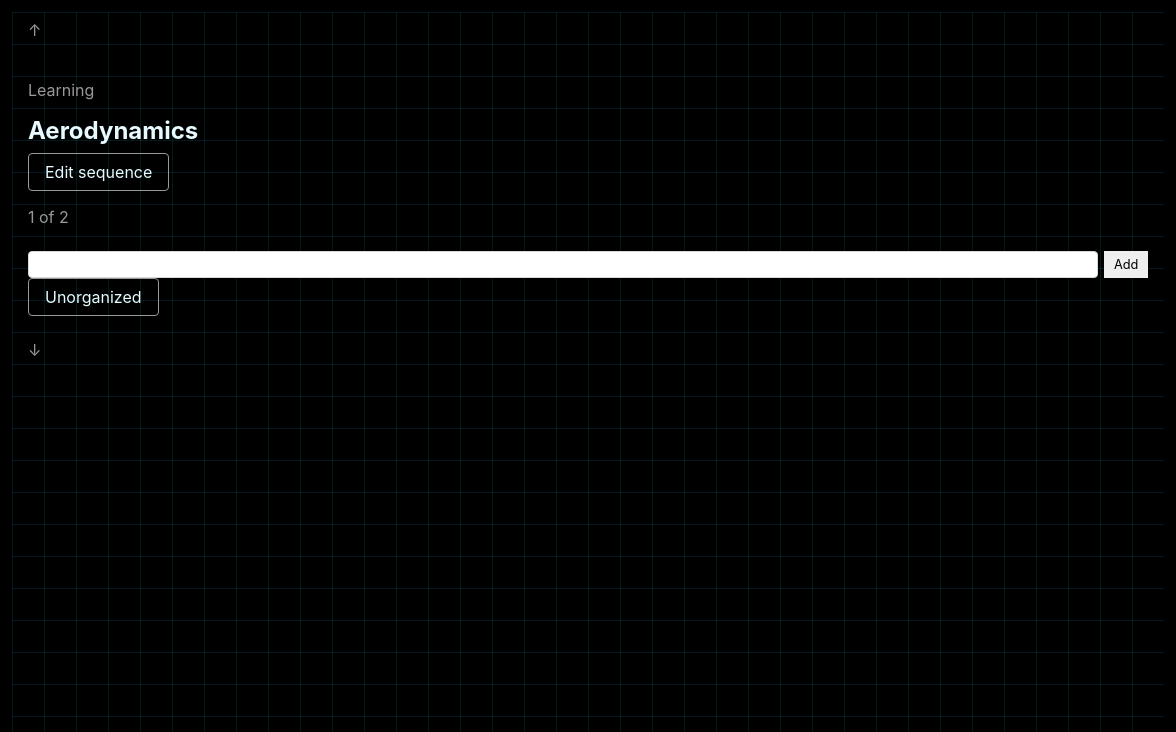
Test case: Edit sequence opens the editor in place of the title block and Done closes it
Click the button "Edit sequence" at (99, 172), box [28,153,169,191]
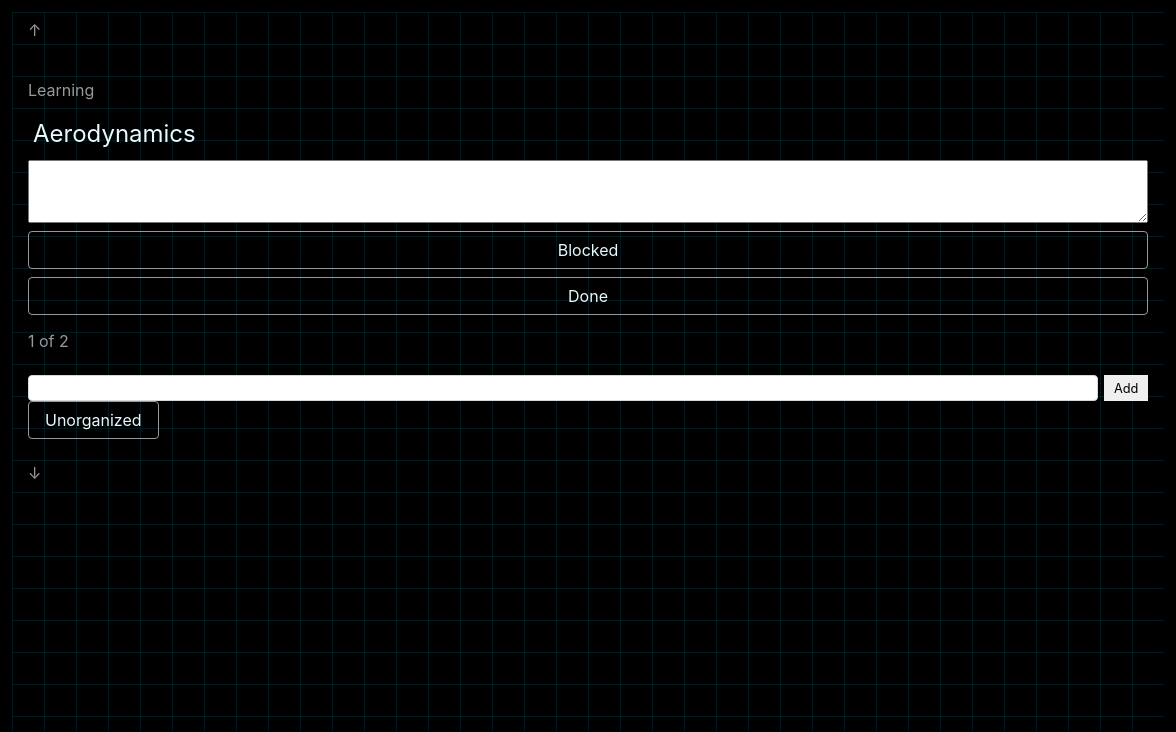
Now the field named "Sequence title" is shown, box [28,116,1148,152]
Click the button "Done" at (588, 296), box [28,277,1148,315]
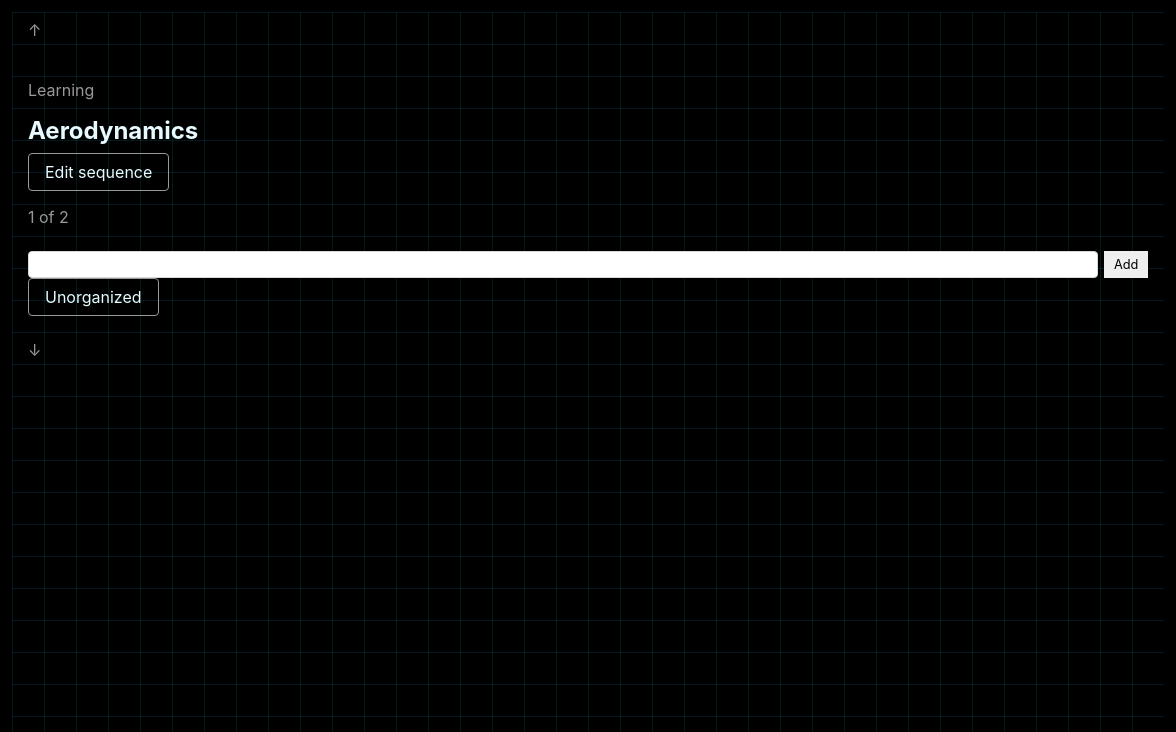
Now the heading "Aerodynamics" is shown, box [28,116,198,145]
